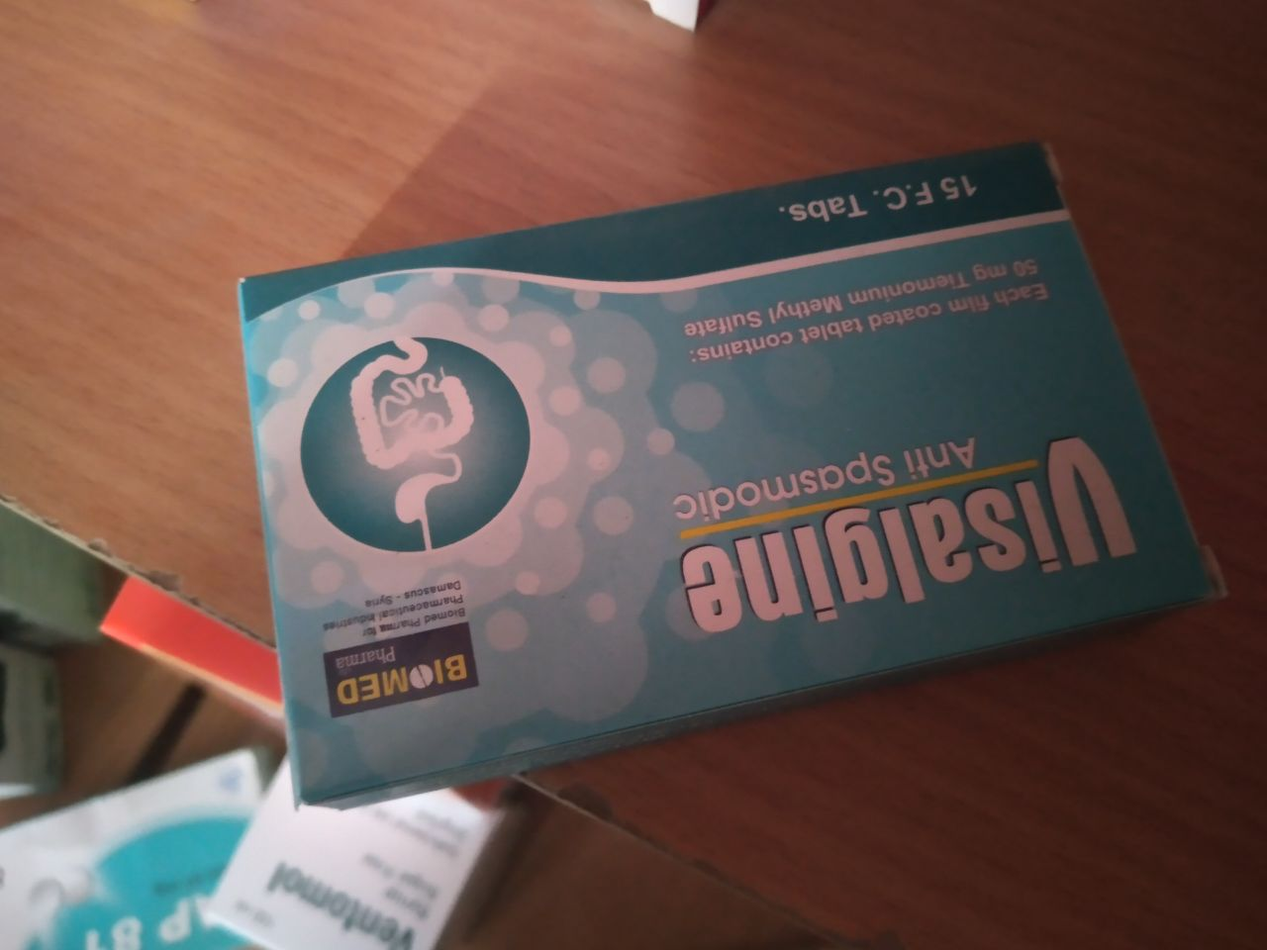Medicine: (247, 134, 1208, 787)
